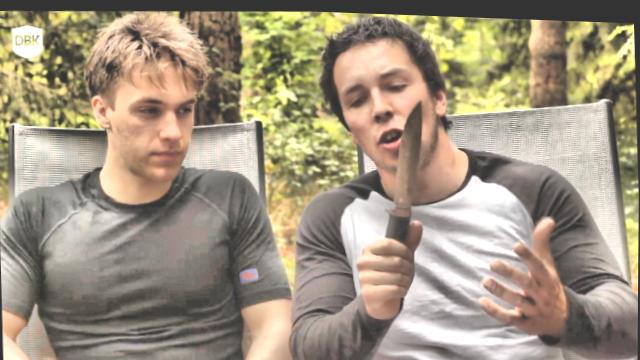knife: (350, 89, 433, 307)
